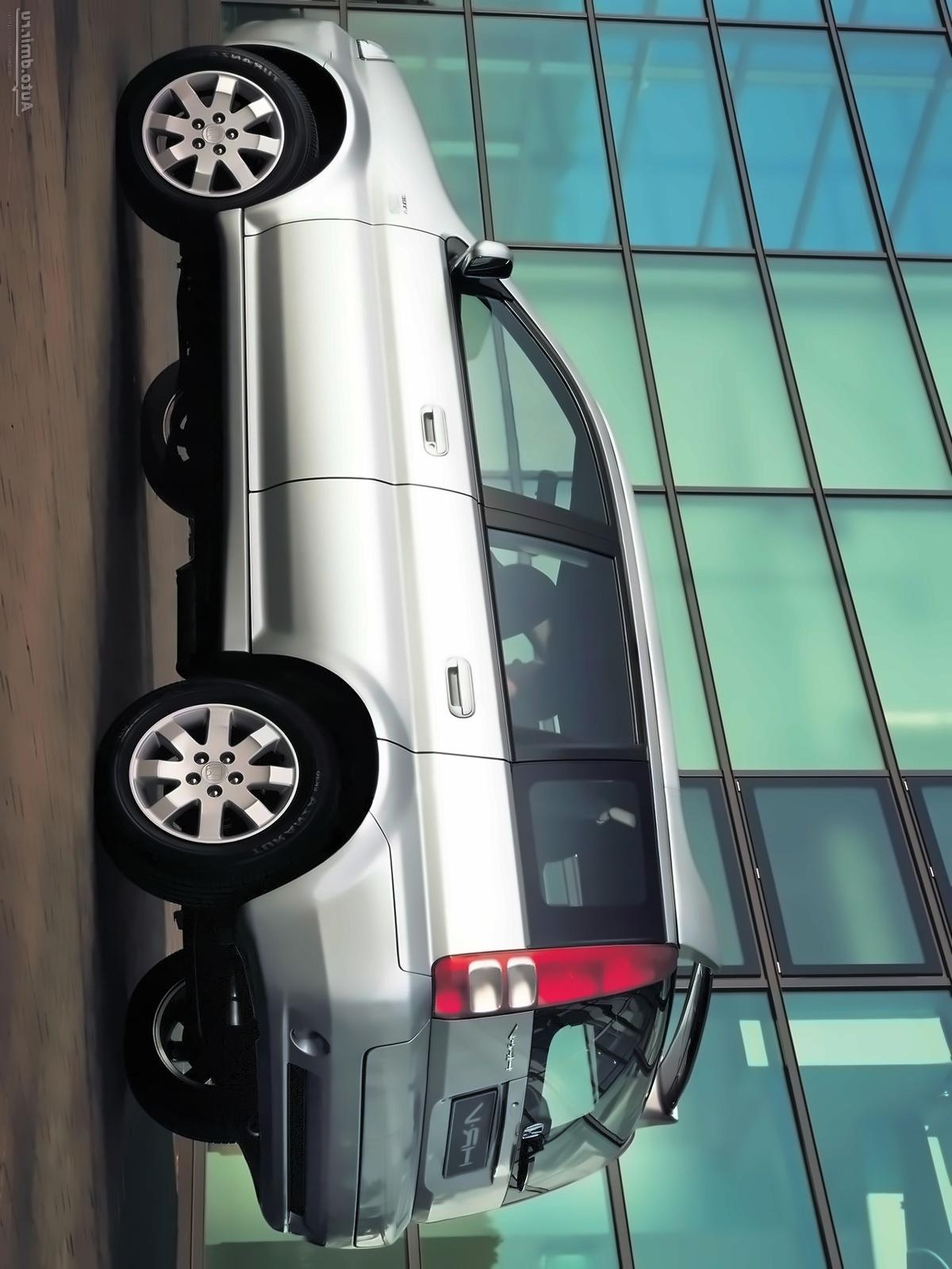Car boot: (345, 998, 537, 1254)
Fender - -F-L-: (276, 42, 472, 257)
Fender - -R-L-: (351, 710, 532, 974)
Front bumper: (199, 8, 365, 72)
Passenger-s door - -F-L-: (212, 216, 671, 544)
Passenger-s door - -R-L-: (206, 476, 675, 782)
Rear bumper: (222, 813, 423, 1269)
Rear light - -L-: (419, 934, 684, 1025)
Side bumper - -L-: (206, 181, 344, 671)
Side mirror - -L-: (452, 240, 518, 290)
